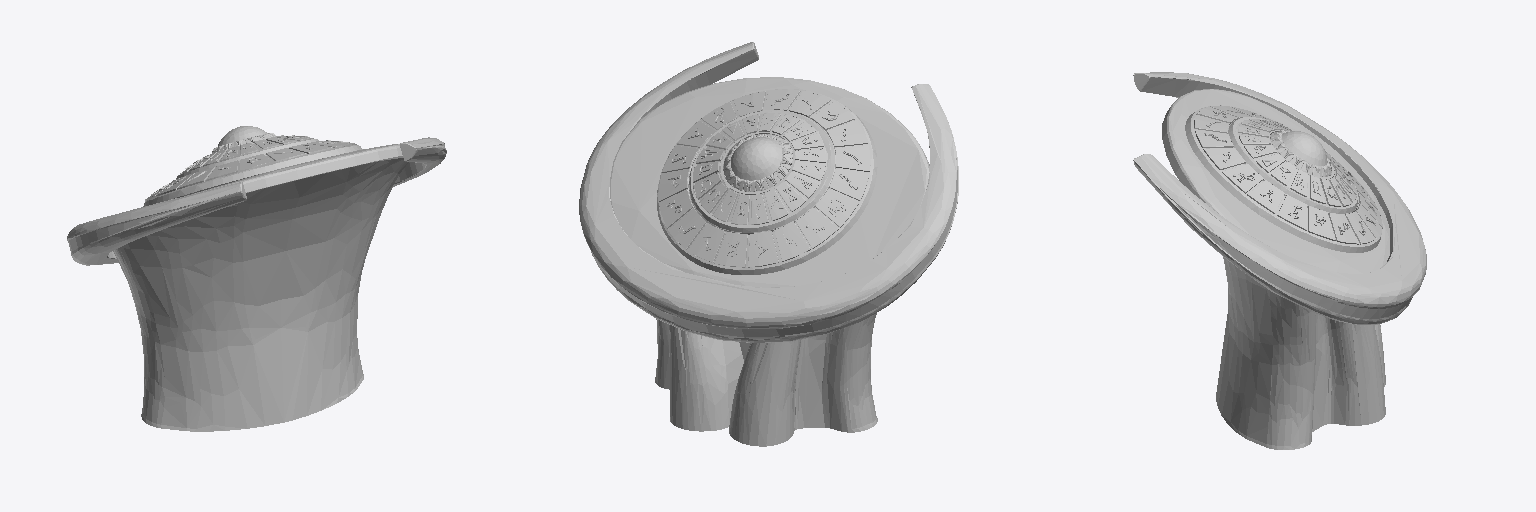
File: dhd_handheld2.obj
The picture shows the model from 3 angles: view 1: azimuth 30°, elevation 25°; view 2: azimuth 150°, elevation 25°; view 3: azimuth 270°, elevation 25°; orthographic projection.
Visible parts, largest first — view 1: DHD_DHD_symbols_outer_Cylinder.001; view 2: DHD_DHD_symbols_outer_Cylinder.001; view 3: DHD_DHD_symbols_outer_Cylinder.001.
Part boxes in pixels (x1,y1,x2,y2): DHD_DHD_symbols_outer_Cylinder.001: (67, 126, 446, 431); DHD_DHD_symbols_outer_Cylinder.001: (579, 42, 958, 446); DHD_DHD_symbols_outer_Cylinder.001: (1133, 72, 1426, 449).
Size of the model in its own units: 2.02 by 1.58 by 1.47.